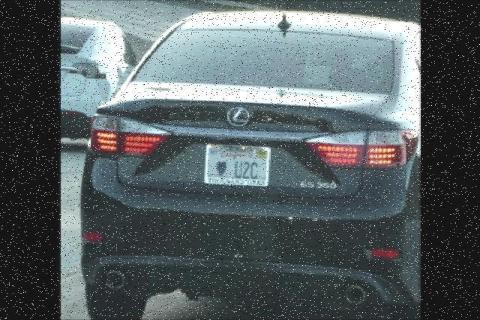LicensePlate: (206, 143, 270, 189)
